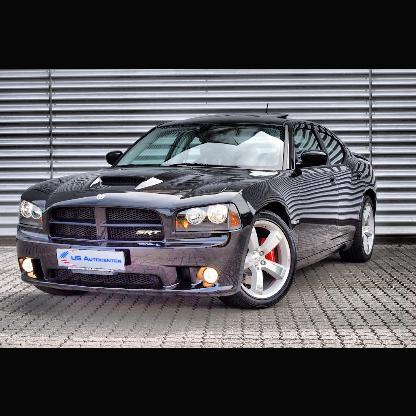Dodge Charger SRT-8 2009: (15, 114, 379, 312)
